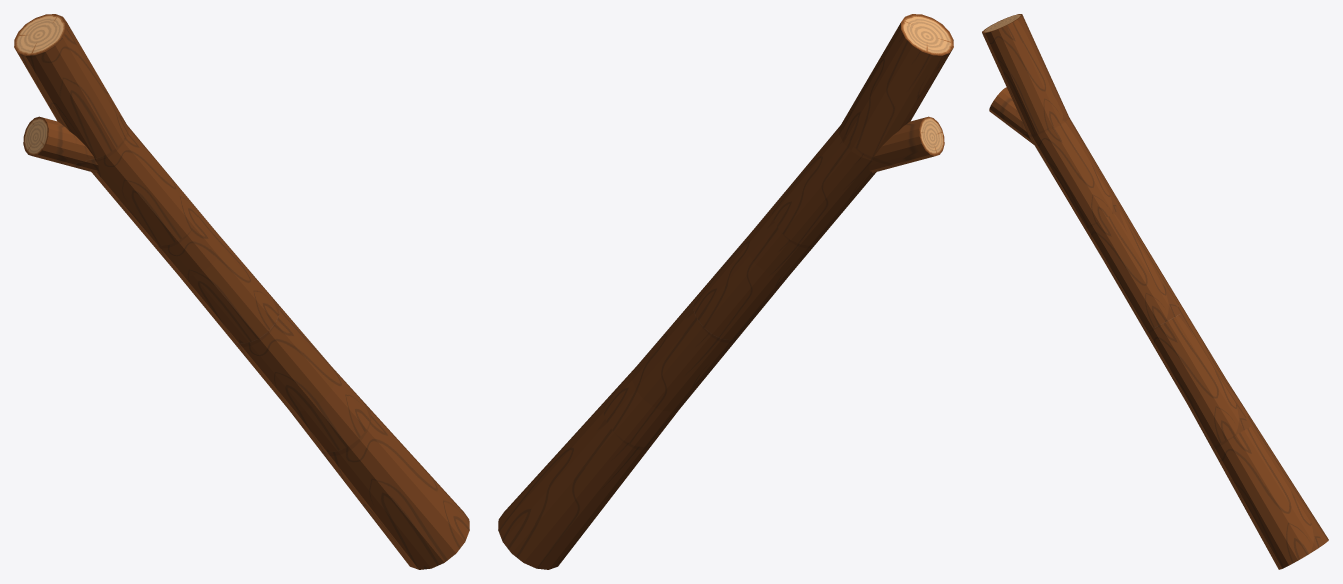
Rendered from KayuBakar.fbx.
3 renders of one model, left to right at view 1: azimuth 30°, elevation 25°; view 2: azimuth 150°, elevation 25°; view 3: azimuth 330°, elevation 25°, orthographic. The views are drawn at different scales.
Parts seen in each view (by area): view 1: Cylinder; view 2: Cylinder; view 3: Cylinder.
Boxes of the visible parts, <box> form: Cylinder: <box>14,14,469,569</box>; Cylinder: <box>498,14,953,569</box>; Cylinder: <box>982,14,1328,569</box>.
Bounding box in the file's own units: 340 × 463 × 51.13.
